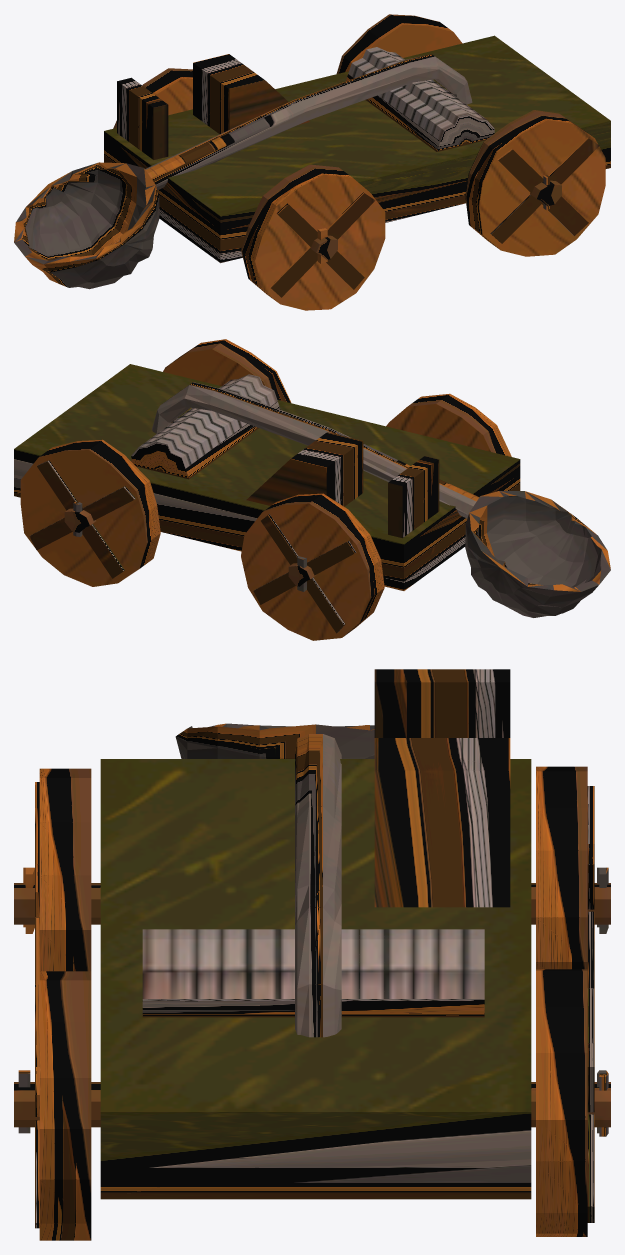
Rendered from Catapult.glb.
3 views of the same model, one above another, from view 1: azimuth 30°, elevation 25°; view 2: azimuth 150°, elevation 25°; view 3: azimuth 270°, elevation 25° (orthographic). The views are drawn at different scales.
Visible parts, largest first — view 1: Catapult; view 2: Catapult; view 3: Catapult.
Boxes of the visible parts, x1,y1,x2,y2 form: Catapult: [14, 14, 610, 310]; Catapult: [14, 339, 610, 640]; Catapult: [14, 669, 610, 1240].
Size of the model in its own units: 251 by 71.05 by 133.
Materials: 1 (1 with a texture image).
